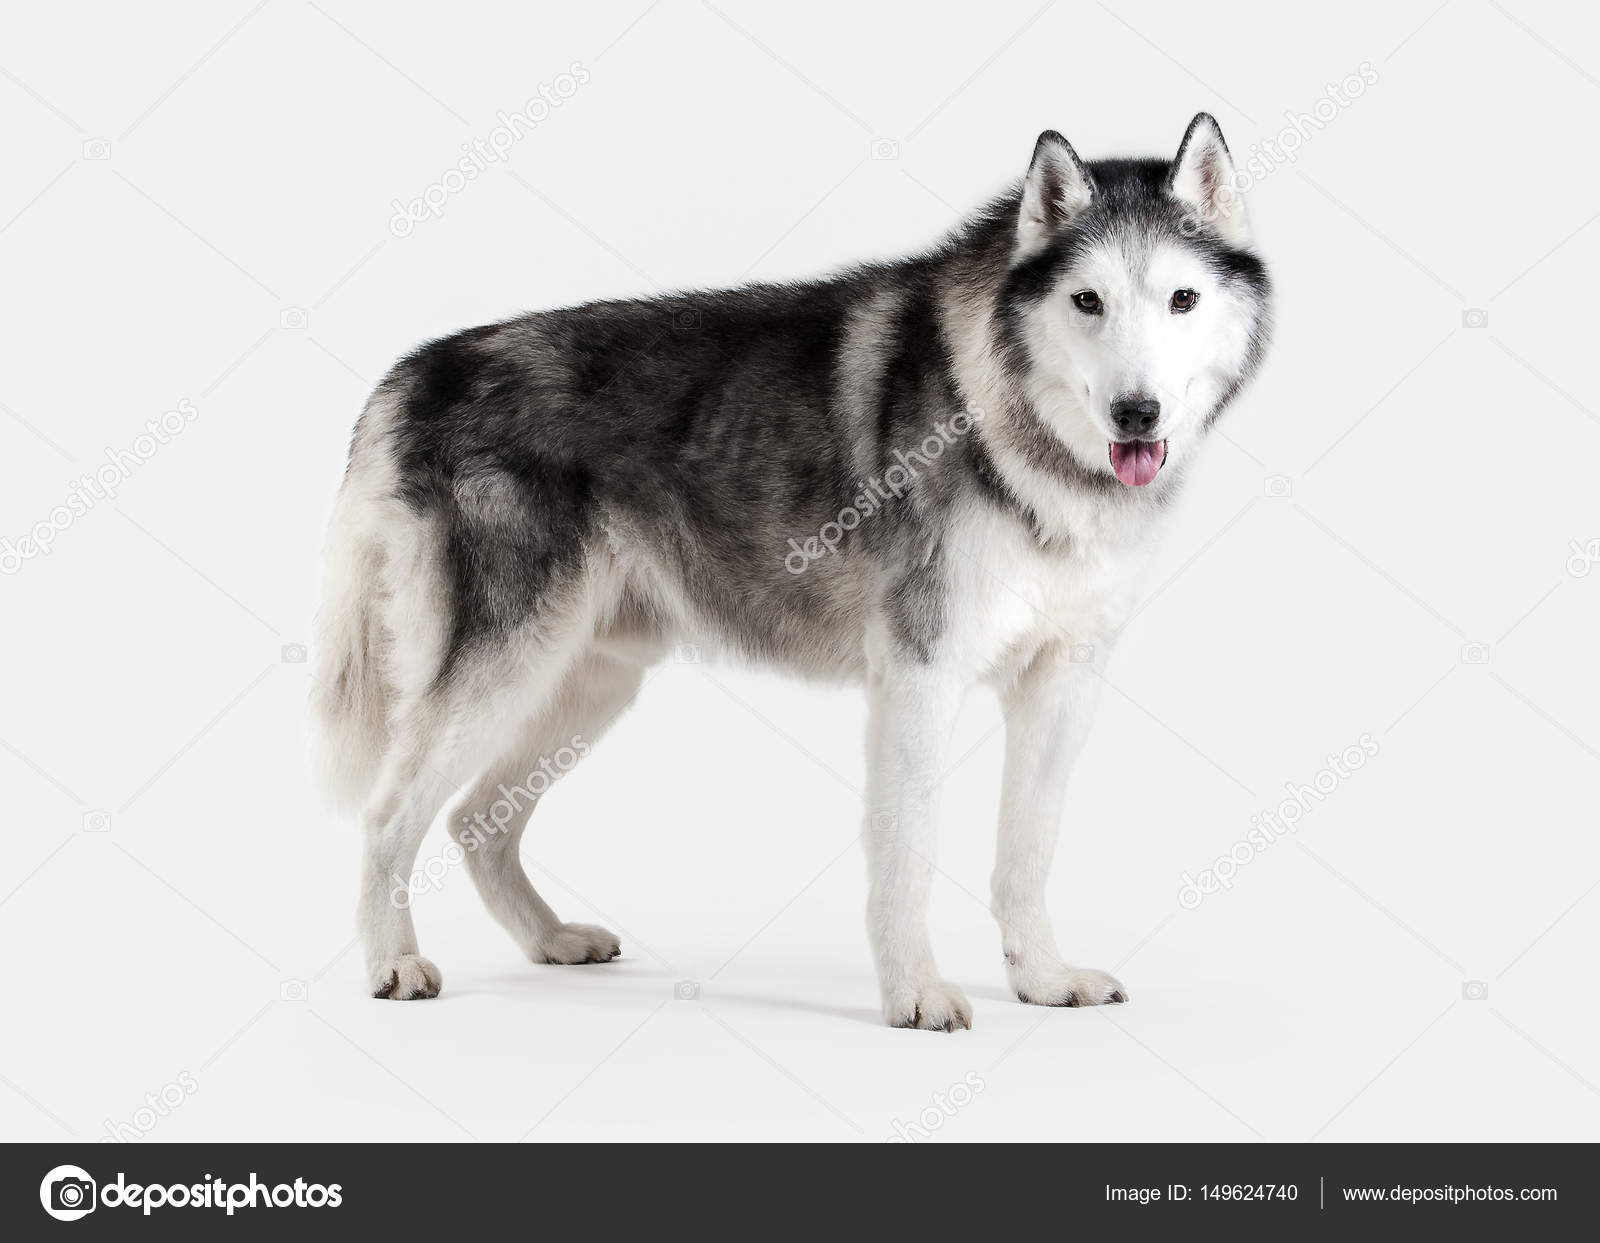husky: (327, 90, 1312, 1009)
